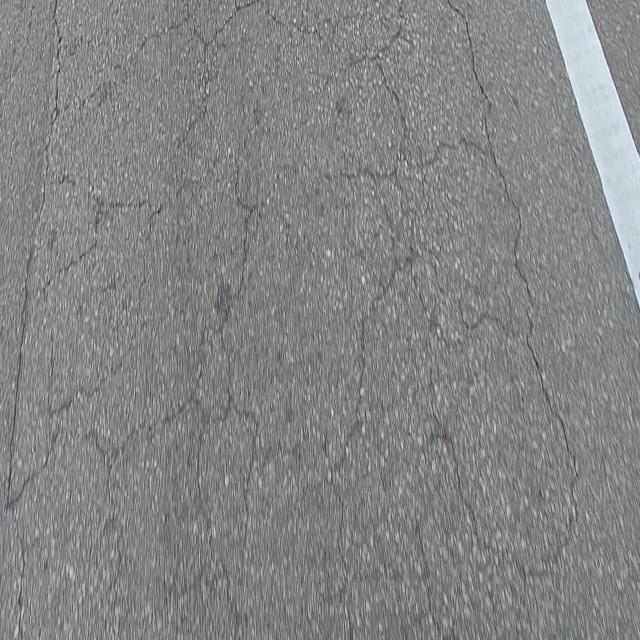Retak-Buaya: (1, 0, 581, 640)
